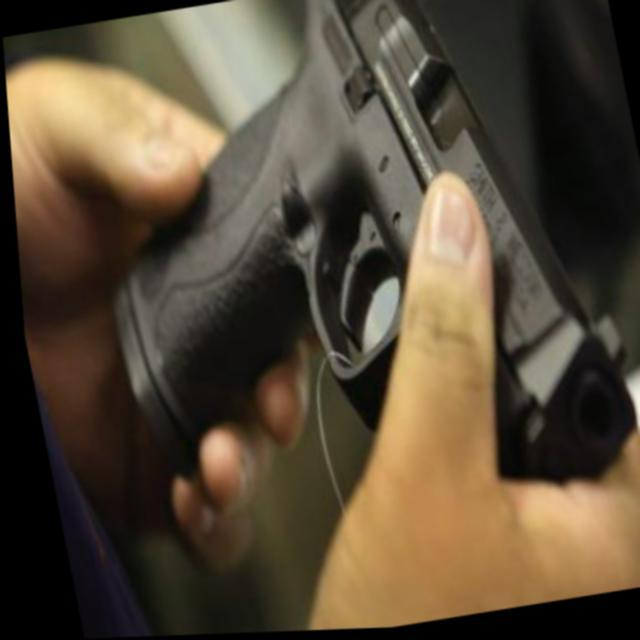weapon: (36, 0, 640, 562)
